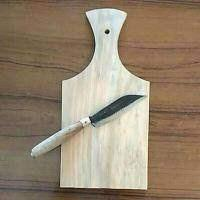knives: (25, 67, 151, 167)
